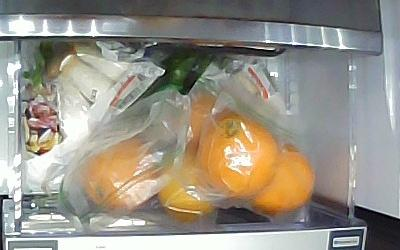orange_vinyl: (204, 116, 279, 199), (82, 137, 160, 216), (254, 143, 313, 214), (157, 154, 216, 220), (183, 95, 238, 151)
